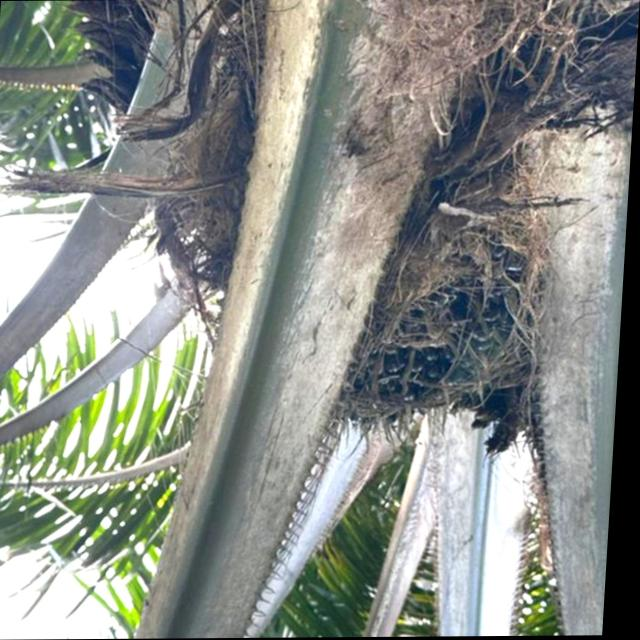almost: (324, 238, 529, 465)
